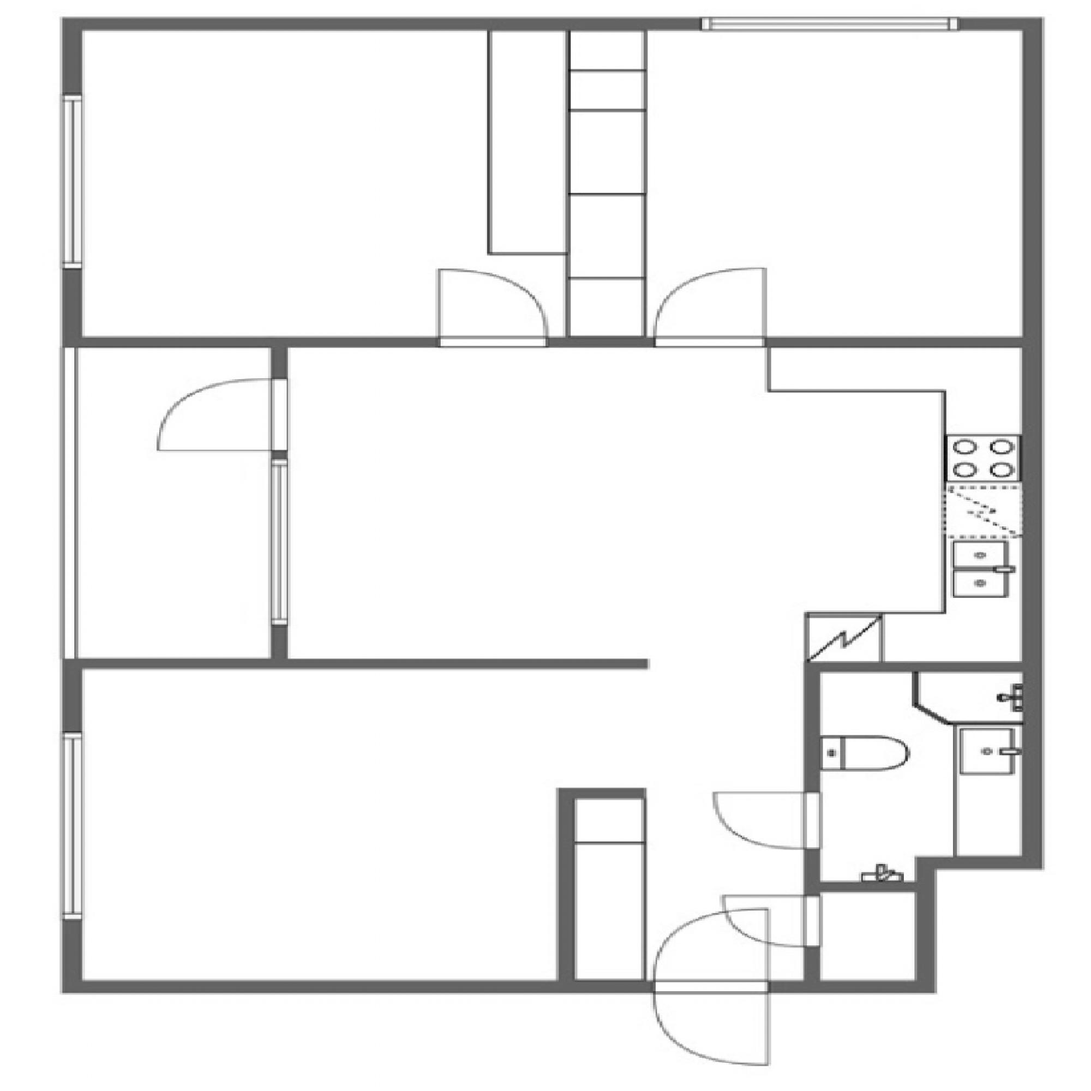wall: (1022, 17, 1042, 868), (61, 17, 1041, 29), (61, 980, 934, 993), (271, 337, 1042, 347), (61, 659, 81, 993), (61, 17, 81, 347), (271, 337, 287, 669), (804, 662, 820, 993), (271, 659, 648, 669), (559, 787, 575, 993), (914, 856, 934, 993), (804, 662, 1042, 672), (61, 659, 287, 669), (61, 337, 287, 347), (914, 856, 1042, 868), (804, 881, 934, 891), (559, 787, 648, 797)
